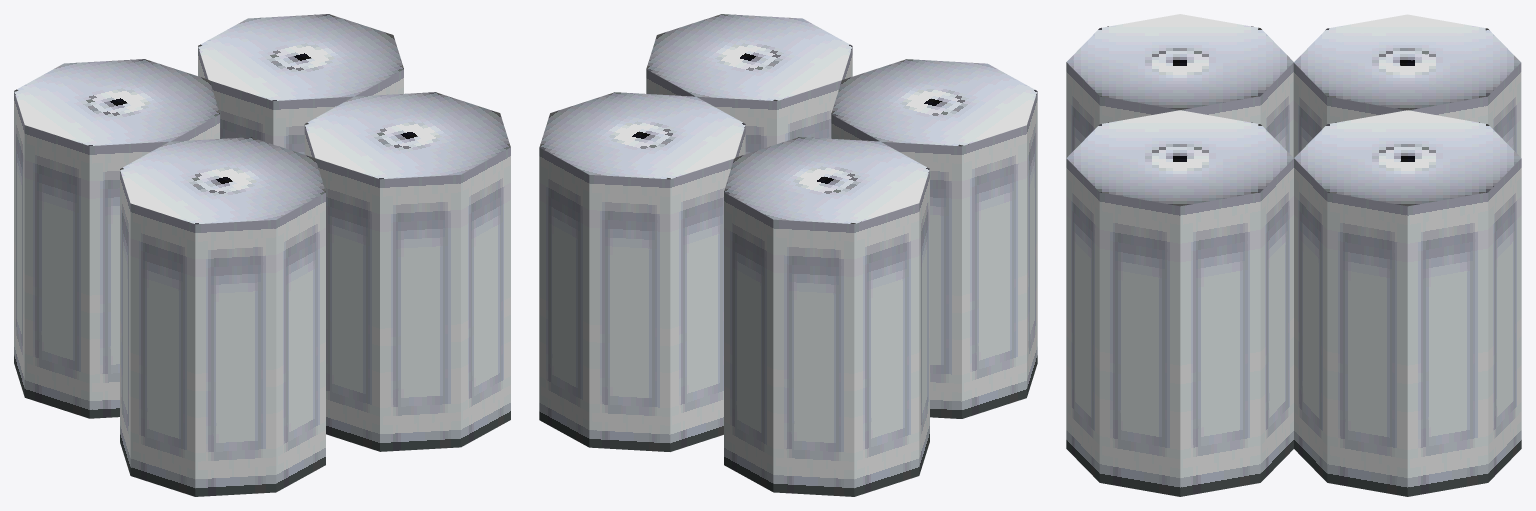
The model's file is primary_11.glb.
3 renders of one model, left to right at view 1: azimuth 30°, elevation 25°; view 2: azimuth 150°, elevation 25°; view 3: azimuth 270°, elevation 25°, orthographic. The views are drawn at different scales.
Visible parts, largest first — view 1: Object; view 2: Object; view 3: Object.
Boxes of the visible parts, box(x1,y1,x2,y2) form: Object: box(14, 14, 510, 496); Object: box(539, 14, 1037, 496); Object: box(1066, 14, 1521, 496).
Size of the model in its own units: 1.33 by 0.9364 by 1.33.
2 materials, 2 textured.
